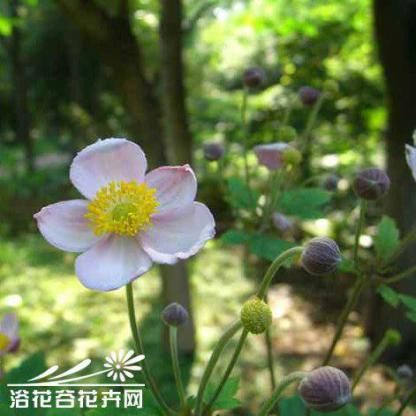other: (84, 174, 152, 236)
